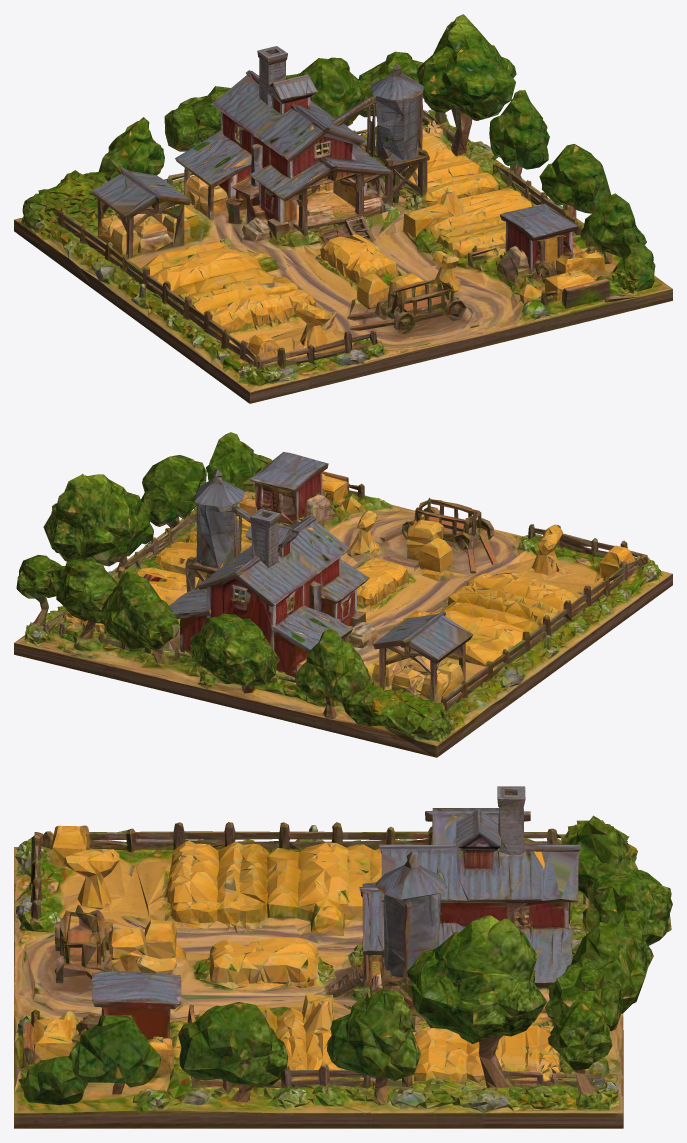
The model's file is farm.glb.
3 renders of one model, top to bottom at view 1: azimuth 30°, elevation 25°; view 2: azimuth 150°, elevation 25°; view 3: azimuth 270°, elevation 25°, orthographic. The views are drawn at different scales.
Visible parts, largest first — view 1: normalize; view 2: normalize; view 3: normalize.
Boxes of the visible parts, <box> form: normalize: <box>14,14,672,403</box>; normalize: <box>14,432,672,757</box>; normalize: <box>14,786,672,1128</box>.
Bounding box in the file's own units: 1 × 0.3422 × 0.9939.
Materials: 1 (1 with a texture image).
